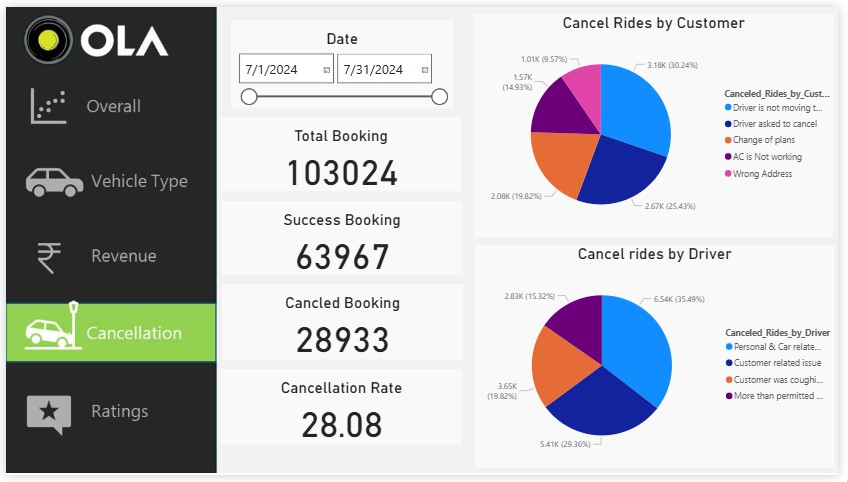

The dashboard page shown, as its layout file describes it:
{"tool":"powerbi","page":{"name":"Cancellation","canvas":[1280,720],"ordinal":3},"visuals":[{"type":"actionButton","box":[0,213.3,323.3,108.3],"z":0},{"type":"actionButton","box":[0,330,323.3,108.3],"z":1000},{"type":"actionButton","box":[0,105,323.3,108.3],"z":2000},{"type":"actionButton","box":[0,573.3,323.3,108.3],"z":3000},{"type":"pieChart","title":"Cancel Rides by Customer ","fields":{"Category":["July.Canceled_Rides_by_Customer"],"Y":["CountNonNull(July.Canceled_Rides_by_Customer)"]},"box":[720,10,553.3,343.3],"z":4000},{"type":"pieChart","title":"Cancel rides by Driver","fields":{"Category":["July.Canceled_Rides_by_Driver"],"Y":["CountNonNull(July.Canceled_Rides_by_Driver)"]},"box":[721.7,366.7,553.3,343.3],"z":5000},{"type":"slicer","title":"Date","fields":{"Values":["July.Date"]},"box":[346,20.2,342.7,136.1],"z":6000},{"type":"card","title":"Total Booking ","fields":{"Values":["CountNonNull(July.Booking_ID)"]},"box":[330.9,169.7,369.6,114.2],"z":6001},{"type":"card","title":"Success Booking ","fields":{"Values":["CountNonNull(July.Booking_ID)"]},"box":[332.6,299,369.6,114.2],"z":6002},{"type":"card","title":"Cancled Booking ","fields":{"Values":["CountNonNull(July.Booking_ID)"]},"box":[332.6,426.7,371.2,115.9],"z":6003},{"type":"card","title":"Cancellation Rate","fields":{"Values":["July.CancledPersentage"]},"box":[330.9,557.7,371.2,115.9],"z":6004}]}

Visuals, with their boxes on the page's 1280x720 design canvas (x1, y1, x2, y2). These are canvas units, not pixel positions in the 848x482 screenshot, which may show the page scaled, cropped or inside an application window:
actionButton: Rect(0, 213, 323, 322)
actionButton: Rect(0, 330, 323, 438)
actionButton: Rect(0, 105, 323, 213)
actionButton: Rect(0, 573, 323, 682)
"Cancel Rides by Customer " pieChart: Rect(720, 10, 1273, 353)
"Cancel rides by Driver" pieChart: Rect(722, 367, 1275, 710)
"Date" slicer: Rect(346, 20, 689, 156)
"Total Booking " card: Rect(331, 170, 700, 284)
"Success Booking " card: Rect(333, 299, 702, 413)
"Cancled Booking " card: Rect(333, 427, 704, 543)
"Cancellation Rate" card: Rect(331, 558, 702, 674)
